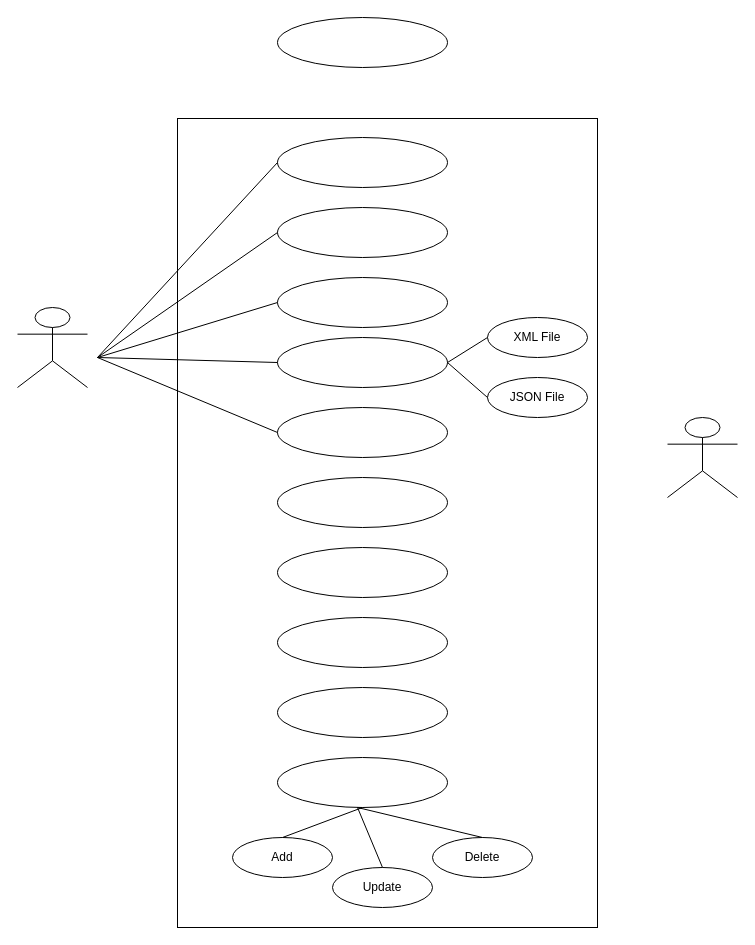
Some shapes in this 755 by 945 pixel diagram are drawn without their labels. The shapes that lost their labels are listed below. From the top down, each one's box as (x1, y1, x2, y2) in pixels, then its label:
(16, 306, 88, 388): User
(666, 416, 738, 498): Admin
